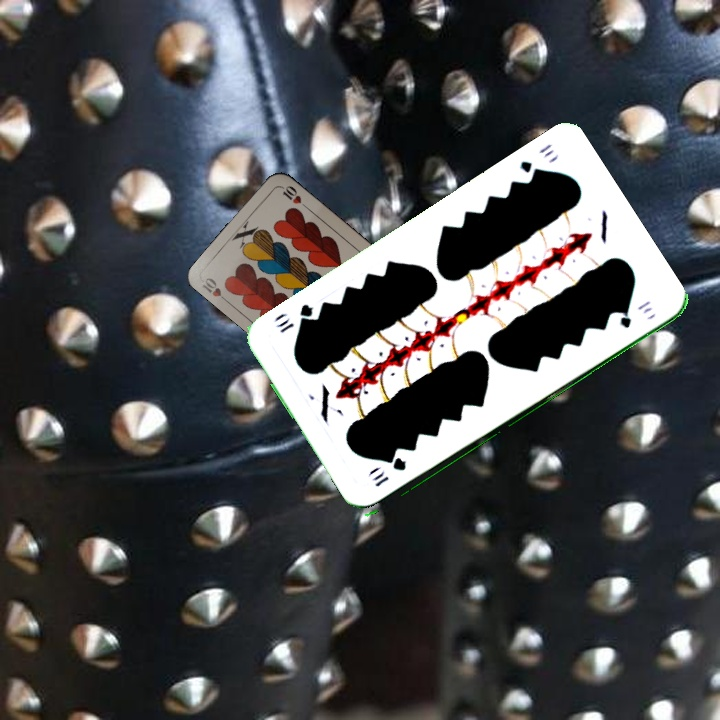G10: (515, 139, 556, 182), (369, 455, 409, 490)
H10: (198, 273, 233, 307)
